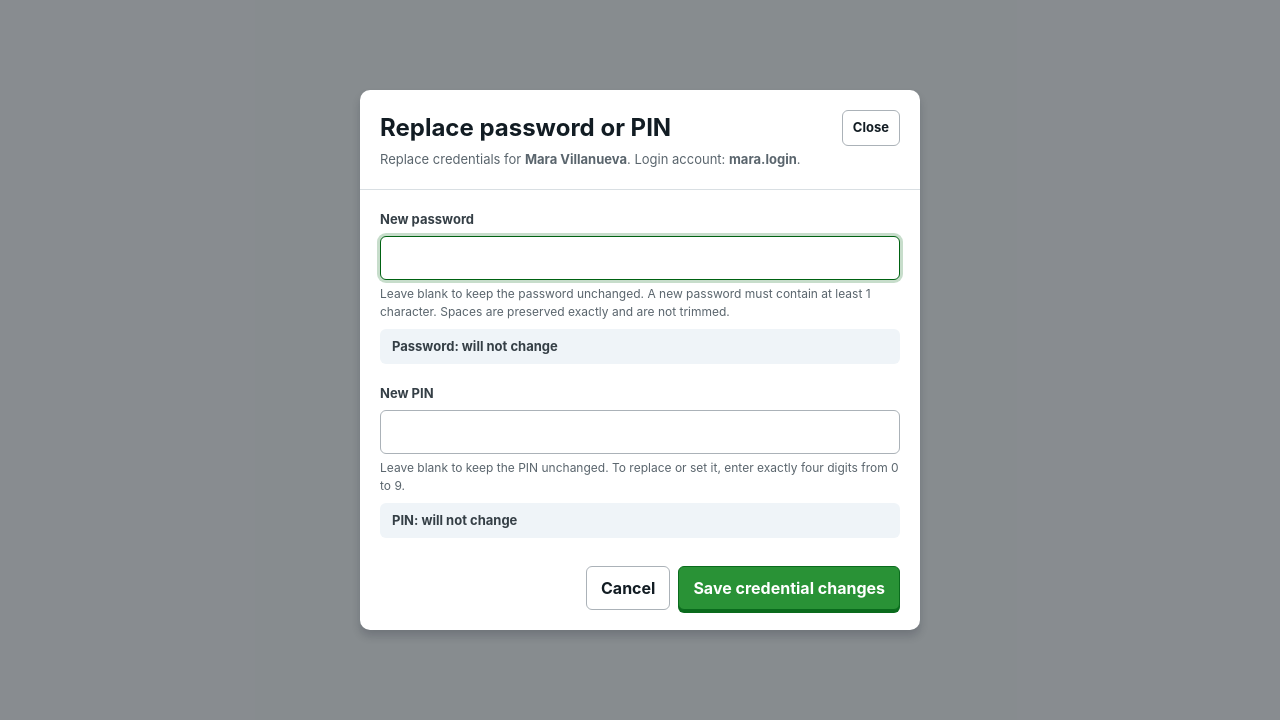
Scenario: StaffCredentialDialog › updates only the password, preserves spaces, and clears concealed values after success
The width and height of the screenshot is (1280, 720).
Check: the text "mara.login" is shown, box top-left (729, 151), bottom-right (797, 167)
Step 1. Type " exact password " into the password field labelled "New password" → (640, 258), box top-left (380, 236), bottom-right (900, 280)
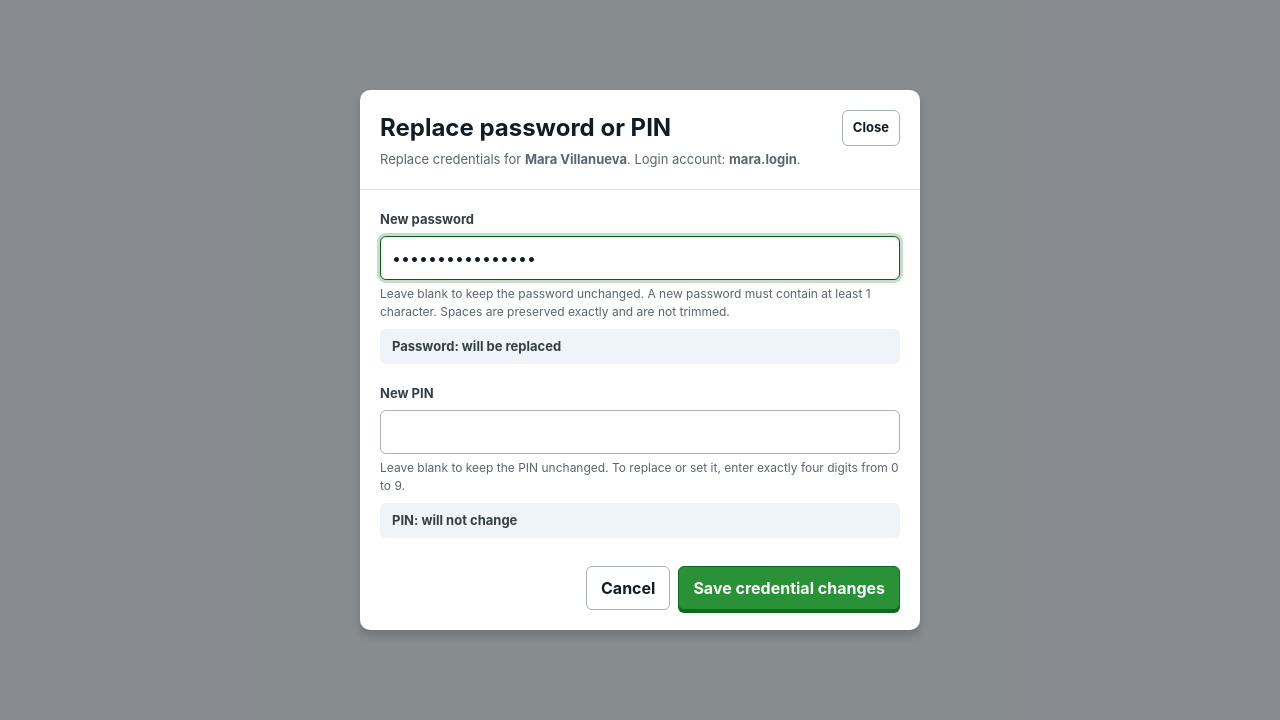
Step 2. Click the button "Save credential changes" → (789, 588), box top-left (678, 566), bottom-right (900, 610)
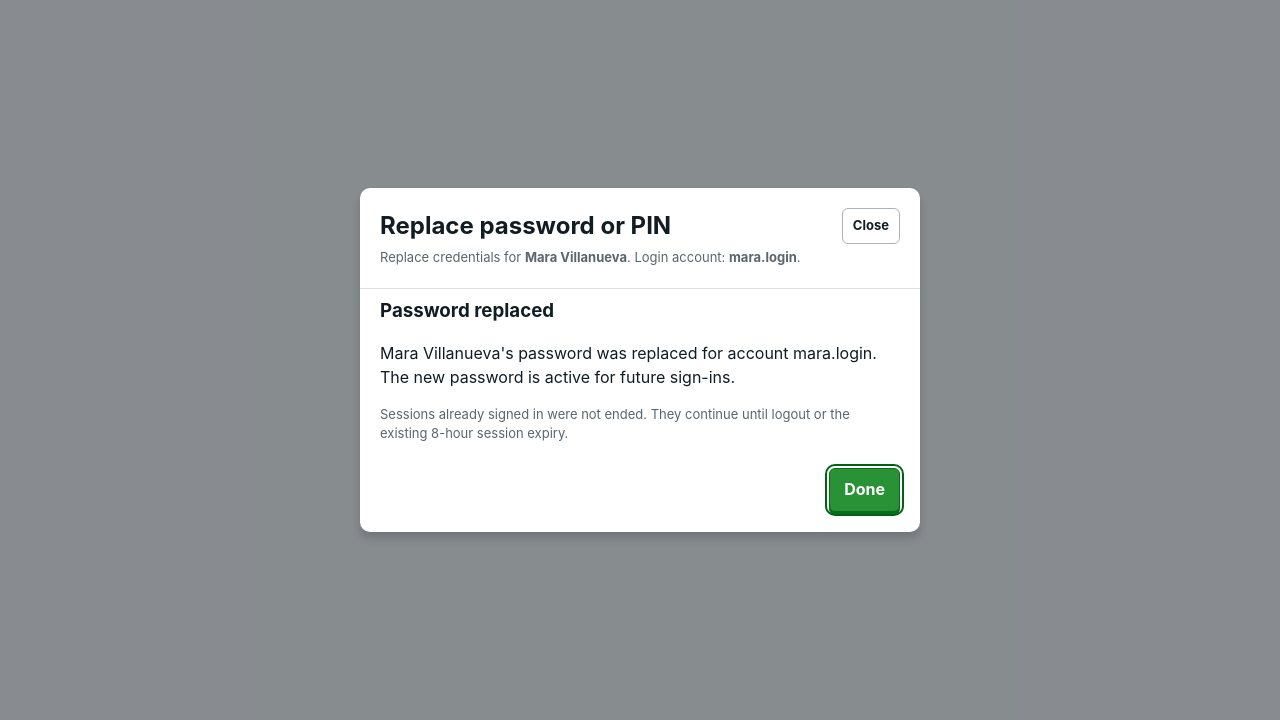
Check: the heading "Password replaced" is shown, box top-left (380, 299), bottom-right (554, 322)
Check: the label labelled "New PIN" is gone
Check: the dialog "Replace password or PIN" no longer shows "exact password", box top-left (360, 188), bottom-right (920, 532)
